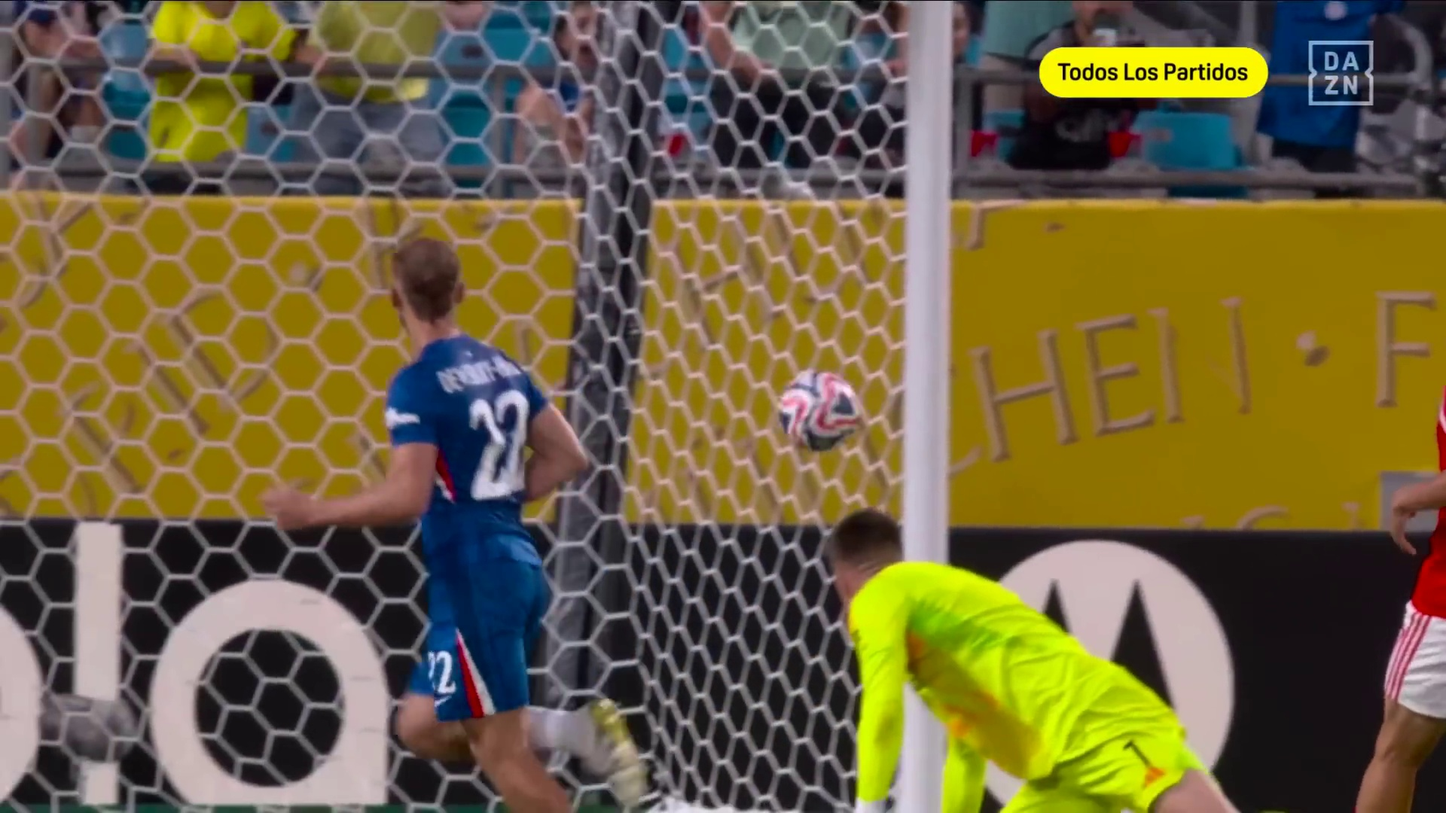ball: (750, 356, 872, 465)
player: (225, 227, 616, 809), (795, 497, 1245, 811)
